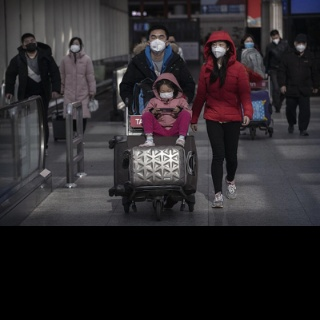with_mask: (148, 34, 166, 53), (211, 41, 226, 59), (24, 38, 36, 52), (159, 88, 173, 100), (69, 41, 80, 53), (295, 42, 306, 52), (244, 40, 255, 49), (272, 36, 280, 44)
